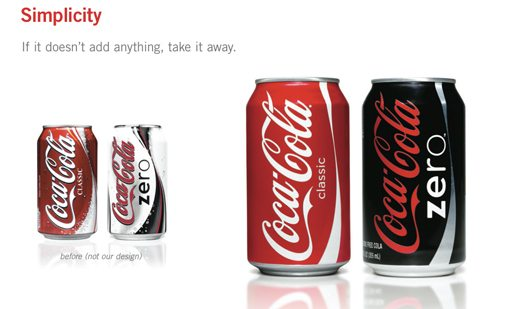can: (353, 74, 477, 287), (243, 70, 353, 283), (100, 119, 170, 247), (36, 123, 98, 242)
